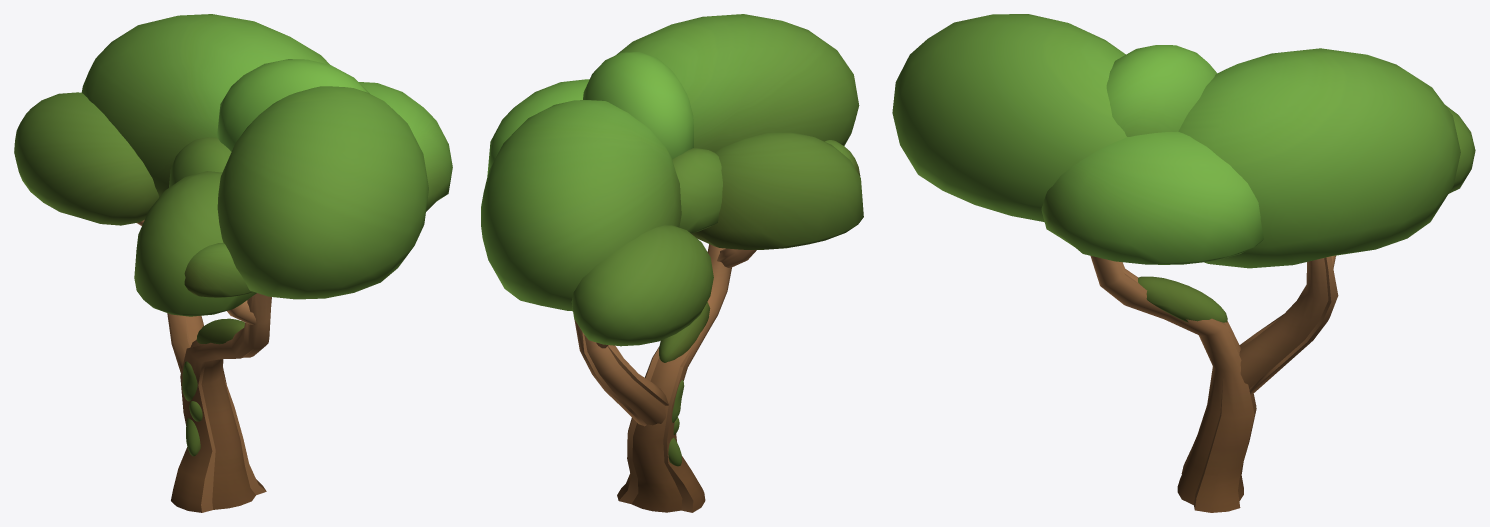
Rendered from Tree.fbx.
3 views of the same model, side by side, from view 1: azimuth 30°, elevation 25°; view 2: azimuth 150°, elevation 25°; view 3: azimuth 270°, elevation 25° (orthographic). The views are drawn at different scales.
Parts seen in each view (by area): view 1: Tree; view 2: Tree; view 3: Tree.
Boxes of the visible parts, x1,y1,x2,y2 form: Tree: [14, 14, 452, 512]; Tree: [481, 14, 863, 512]; Tree: [892, 14, 1475, 512].
Bounding box in the file's own units: 512 × 655 × 730.
